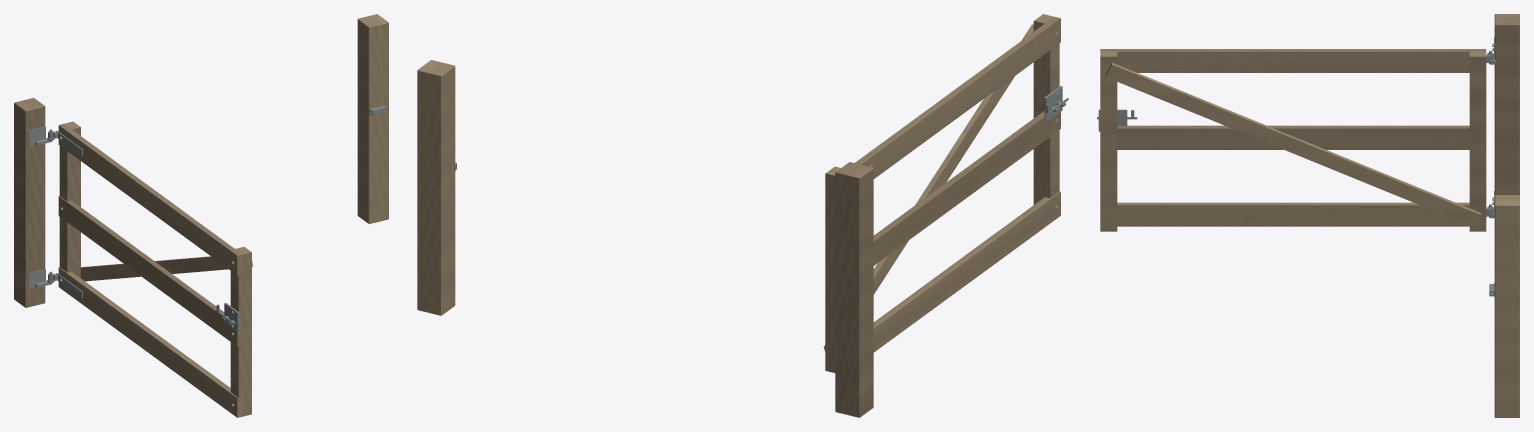
Rendered from farmland_farm_gate_open.glb.
3 renders of one model, left to right at view 1: azimuth 30°, elevation 25°; view 2: azimuth 150°, elevation 25°; view 3: azimuth 270°, elevation 25°, orthographic. The views are drawn at different scales.
Parts seen in each view (by area): view 1: FarmGateOpen; view 2: FarmGateOpen; view 3: FarmGateOpen.
Boxes of the visible parts, left/top/right/bottom form: FarmGateOpen: left=14, top=14, right=388, bottom=417; FarmGateOpen: left=417, top=14, right=1068, bottom=417; FarmGateOpen: left=1097, top=14, right=1519, bottom=417.
Size of what is drawn, in the model's own units: 2.7 by 1.4 by 2.52.
1 material, 1 textured.
